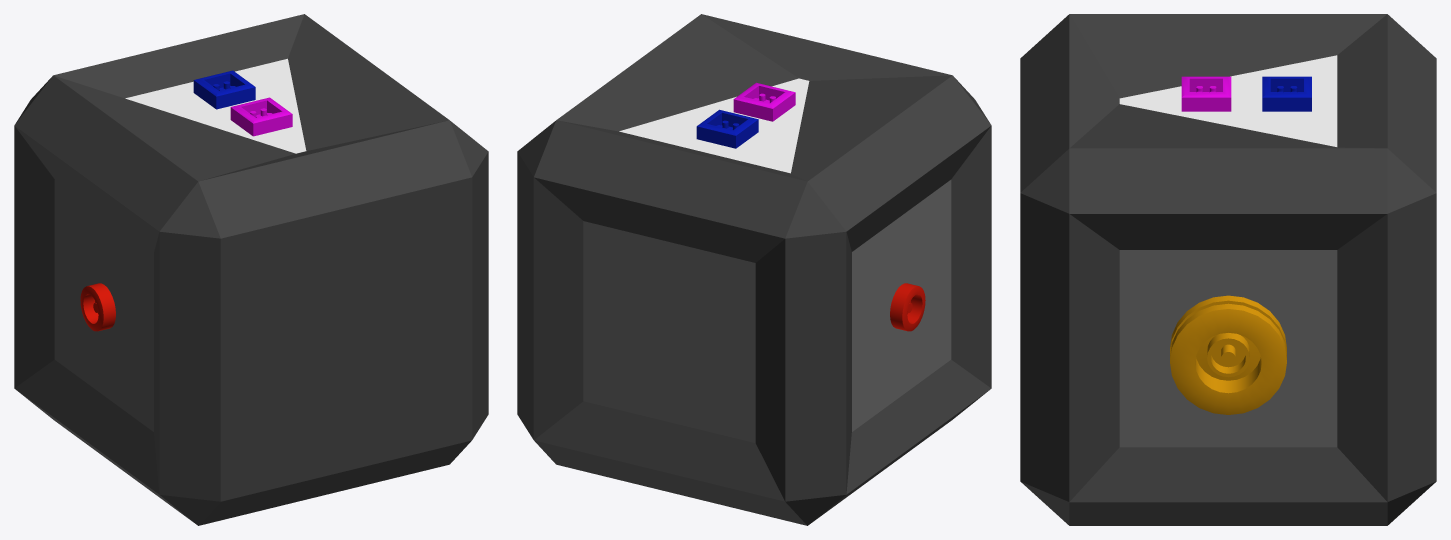
File: MagicCube.gltf
3 views of the same model, side by side, from view 1: azimuth 30°, elevation 25°; view 2: azimuth 150°, elevation 25°; view 3: azimuth 270°, elevation 25° (orthographic). The views are drawn at different scales.
Parts seen in each view (by area): view 1: base; view 2: base; view 3: base.
Part boxes in pixels (x1,y1,x2,y2): base: (14, 14, 488, 525); base: (517, 14, 991, 525); base: (1020, 14, 1436, 525).
Size of the model in its own units: 0.5152 by 0.5 by 0.5.
